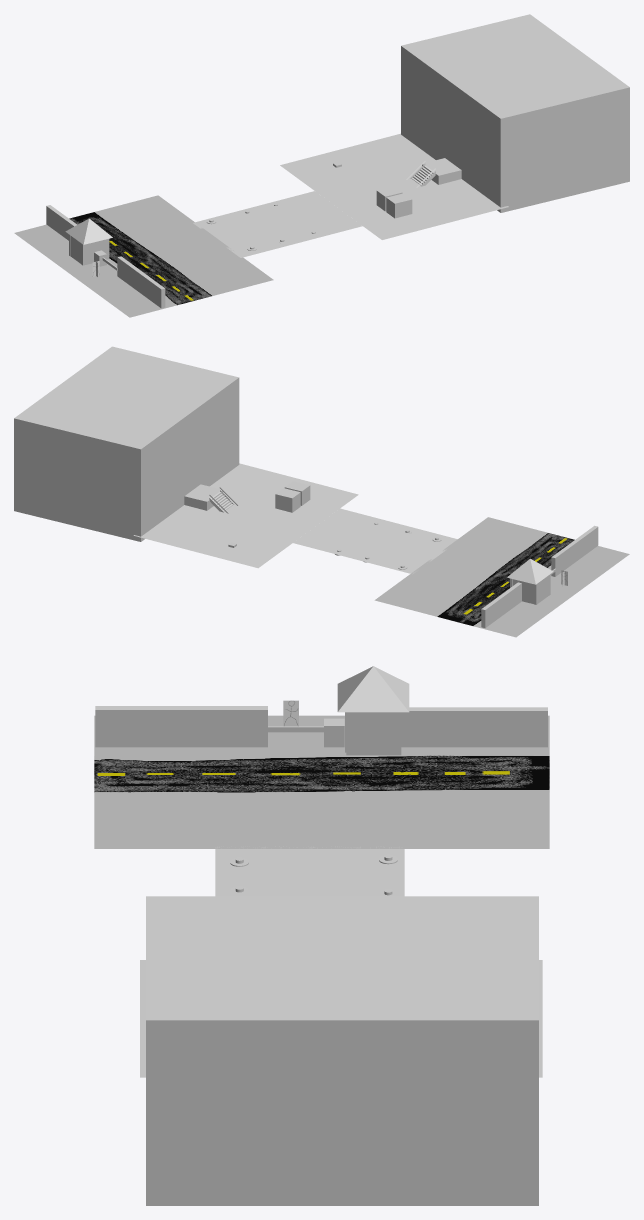
The model's file is RoughLevelDesignMockup.fbx.
3 renders of one model, top to bottom at view 1: azimuth 30°, elevation 25°; view 2: azimuth 150°, elevation 25°; view 3: azimuth 270°, elevation 25°, orthographic. The views are drawn at different scales.
Visible parts, largest first — view 1: BigBuilding, FirstAreaGround, LastAreaGround, MinefieldGround, 51FenceRight, GHRoof, Building, 51FenceLeft, TallCrate001, GateHouse; view 2: BigBuilding, FirstAreaGround, LastAreaGround, MinefieldGround, 51FenceRight, 51FenceLeft, GHRoof, Building, TallCrate; view 3: BigBuilding, FirstAreaGround, MinefieldGround, 51FenceRight, 51FenceLeft, GHRoof, GHTWall, LastAreaGround.
Boxes of the visible parts, x1,y1,x2,y2 form: BigBuilding: [401, 14, 629, 212]; FirstAreaGround: [14, 195, 273, 317]; LastAreaGround: [280, 133, 508, 239]; MinefieldGround: [193, 191, 362, 257]; 51FenceRight: [117, 256, 165, 308]; GHRoof: [65, 218, 112, 244]; Building: [422, 158, 461, 184]; 51FenceLeft: [46, 205, 77, 240]; TallCrate001: [386, 193, 412, 218]; GateHouse: [81, 239, 107, 265]; BigBuilding: [14, 346, 239, 541]; FirstAreaGround: [374, 517, 629, 637]; LastAreaGround: [133, 463, 358, 568]; MinefieldGround: [293, 508, 457, 574]; 51FenceRight: [551, 525, 598, 576]; 51FenceLeft: [481, 582, 521, 628]; GHRoof: [507, 558, 553, 584]; Building: [184, 484, 223, 510]; TallCrate: [275, 488, 300, 512]; BigBuilding: [146, 896, 538, 1205]; FirstAreaGround: [94, 715, 549, 848]; MinefieldGround: [215, 846, 404, 896]; 51FenceRight: [95, 706, 267, 747]; 51FenceLeft: [401, 707, 547, 747]; GHRoof: [337, 666, 409, 712]; GHTWall: [346, 712, 401, 755]; LastAreaGround: [140, 960, 542, 1077].
Size of the model in its own units: 890 by 158 by 348.
2 materials, 2 textured.
